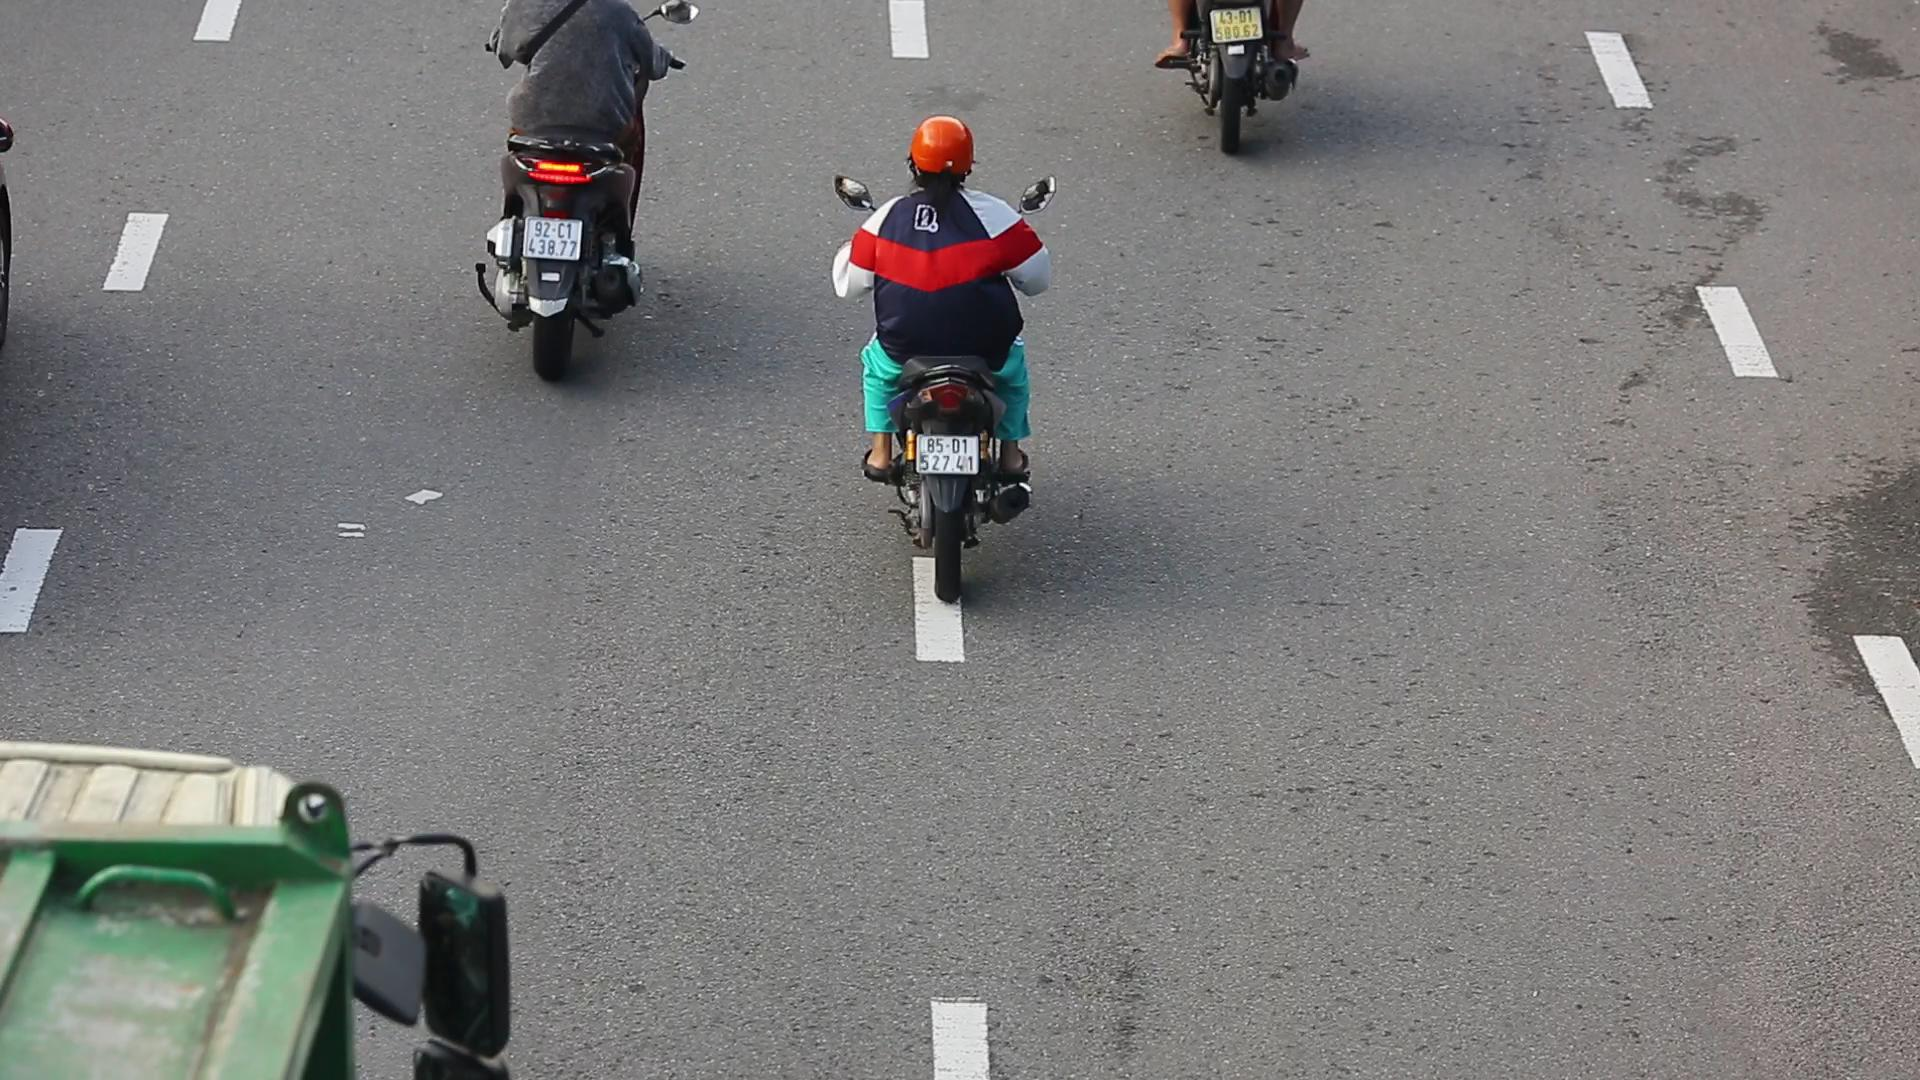motobike: (828, 116, 1055, 620)
